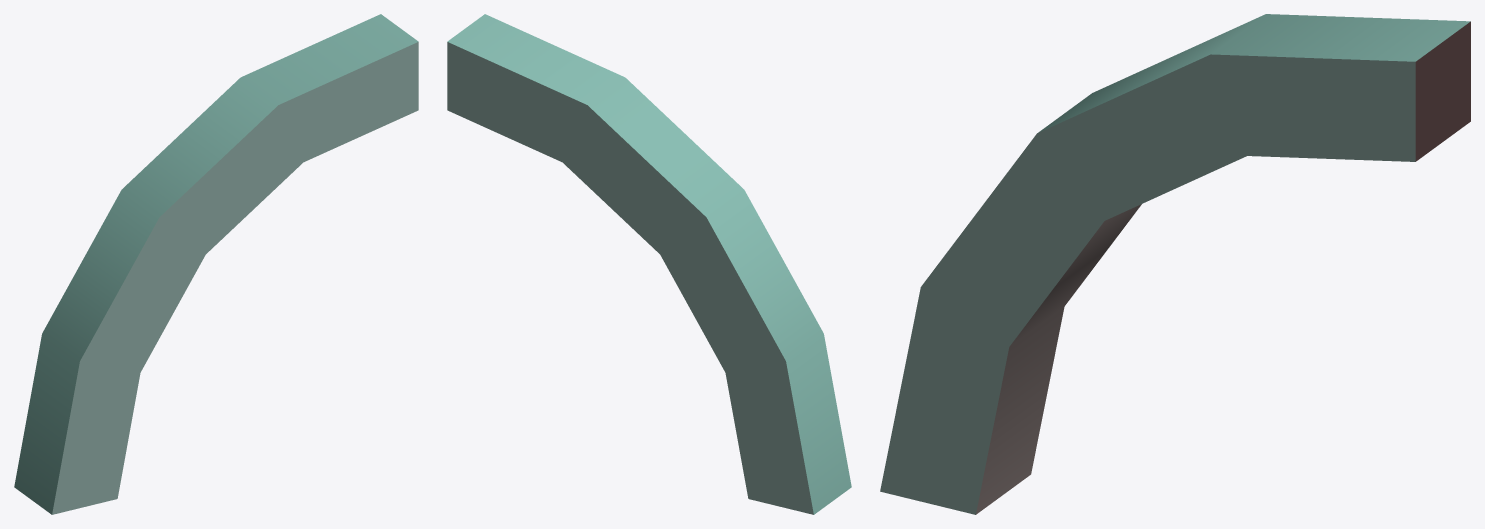
The model's file is SM_PilierCourbe.fbx.
3 renders of one model, left to right at view 1: azimuth 30°, elevation 25°; view 2: azimuth 150°, elevation 25°; view 3: azimuth 330°, elevation 25°, orthographic. The views are drawn at different scales.
Visible parts, largest first — view 1: SM_PilierCourbe; view 2: SM_PilierCourbe; view 3: SM_PilierCourbe.
Boxes of the visible parts, box(x1,y1,x2,y2) form: SM_PilierCourbe: box(14, 14, 418, 514); SM_PilierCourbe: box(447, 14, 851, 514); SM_PilierCourbe: box(880, 14, 1470, 514).
Bounding box in the file's own units: 140 × 140 × 25.
